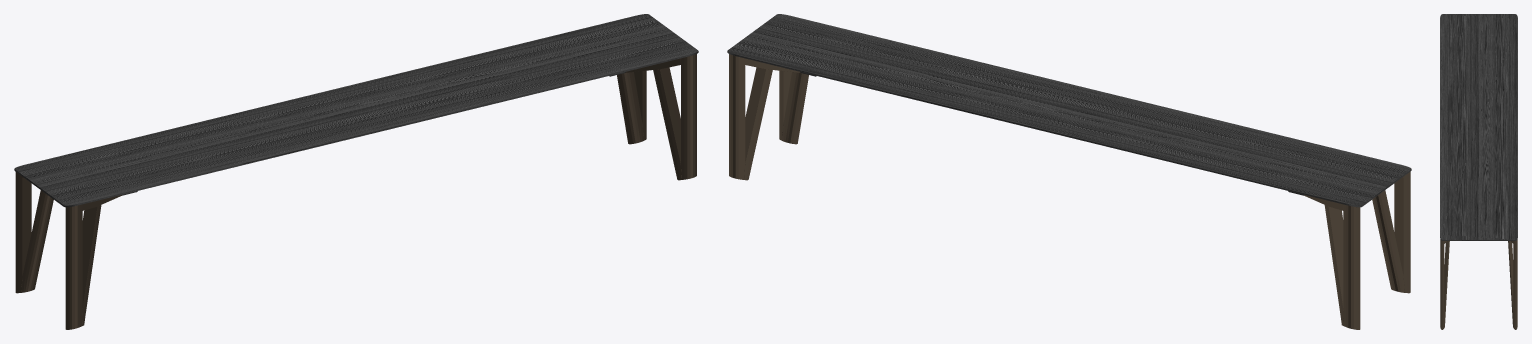
The model's file is table cafet2.obj.
3 renders of one model, left to right at view 1: azimuth 30°, elevation 25°; view 2: azimuth 150°, elevation 25°; view 3: azimuth 270°, elevation 25°, orthographic. The views are drawn at different scales.
Parts seen in each view (by area): view 1: Dining_table_127_1156_2, Dining_table_127_1; view 2: Dining_table_127_1156_2, Dining_table_127_1; view 3: Dining_table_127_1156_2, Dining_table_127_1.
Boxes of the visible parts, x1,y1,x2,y2 form: Dining_table_127_1156_2: [14, 14, 698, 207]; Dining_table_127_1: [15, 54, 696, 329]; Dining_table_127_1156_2: [727, 14, 1411, 207]; Dining_table_127_1: [729, 54, 1410, 329]; Dining_table_127_1156_2: [1440, 14, 1517, 240]; Dining_table_127_1: [1440, 239, 1517, 329].
Bounding box in the file's own units: 405 × 76 × 59.
Materials: 2 (1 with a texture image).
